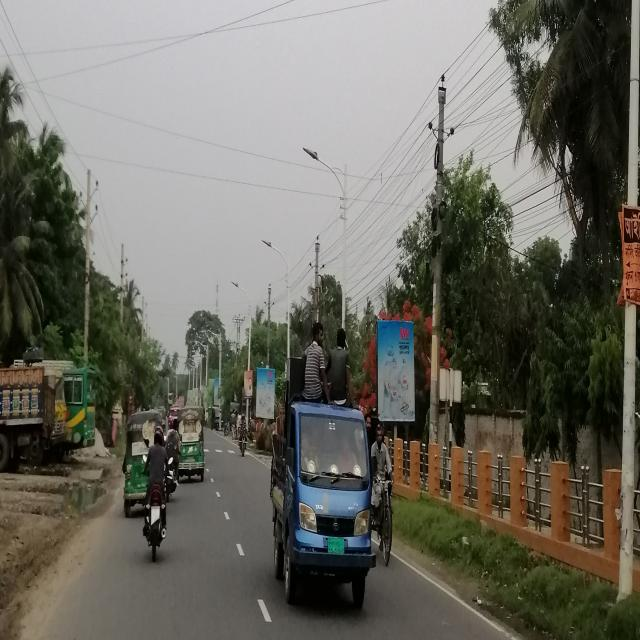Pick-up-van: (270, 398, 372, 618)
